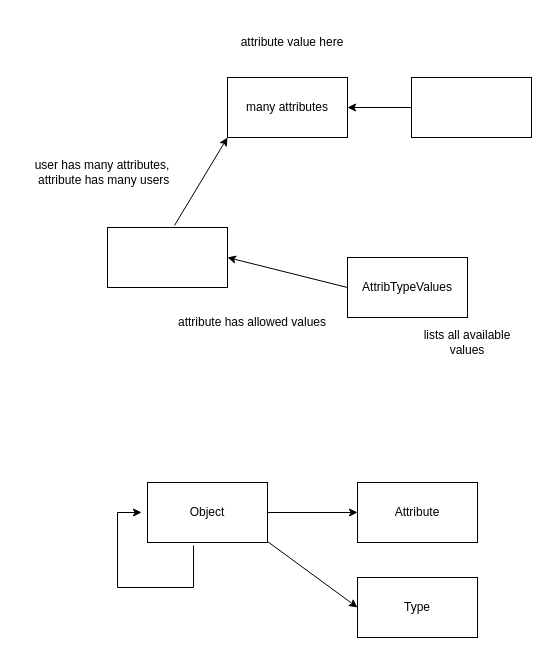
The diagram is 549 pixels wide and 655 high, and some of its shapes have lost their labels. Here are the shapes that lost their labels. From the top down, the centre of each, then its label:
At (471,107): "User".
At (167,257): "Attribute (type)".
